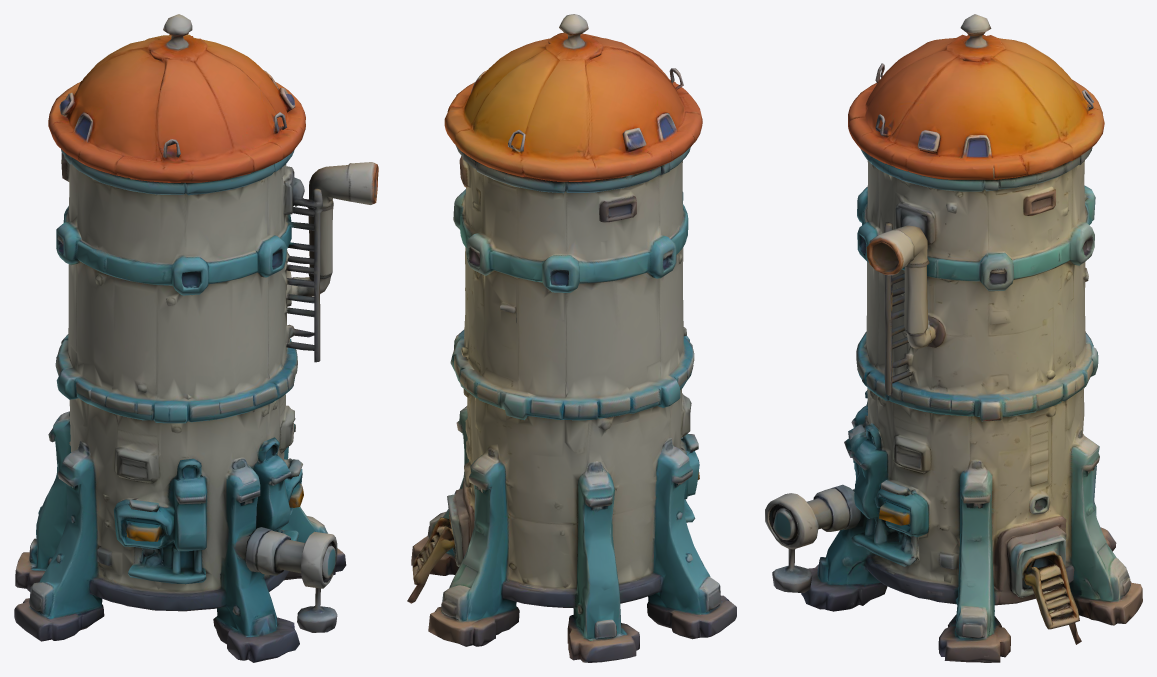
File: silo.glb
The picture shows the model from 3 angles, left to right: view 1: azimuth 30°, elevation 25°; view 2: azimuth 150°, elevation 25°; view 3: azimuth 270°, elevation 25°; orthographic projection.
Visible parts, largest first — view 1: tripo_node_e20f4e36-9ffe-411e-8713-9429721cb91d; view 2: tripo_node_e20f4e36-9ffe-411e-8713-9429721cb91d; view 3: tripo_node_e20f4e36-9ffe-411e-8713-9429721cb91d.
Boxes of the visible parts, left/top/right/bottom form: tripo_node_e20f4e36-9ffe-411e-8713-9429721cb91d: left=14, top=14, right=378, bottom=662; tripo_node_e20f4e36-9ffe-411e-8713-9429721cb91d: left=407, top=14, right=736, bottom=662; tripo_node_e20f4e36-9ffe-411e-8713-9429721cb91d: left=765, top=14, right=1142, bottom=662.
Size of the model in its own units: 0.5644 by 1 by 0.5947.
Materials: 1 (1 with a texture image).
